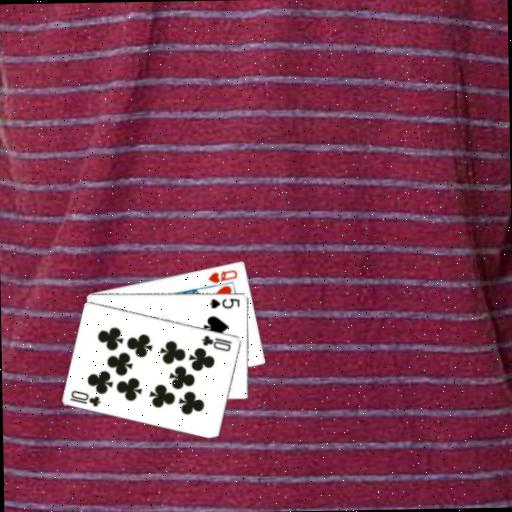10C: (199, 331, 234, 353), (67, 387, 102, 409)
5S: (208, 295, 242, 311)
QH: (206, 266, 240, 285)
